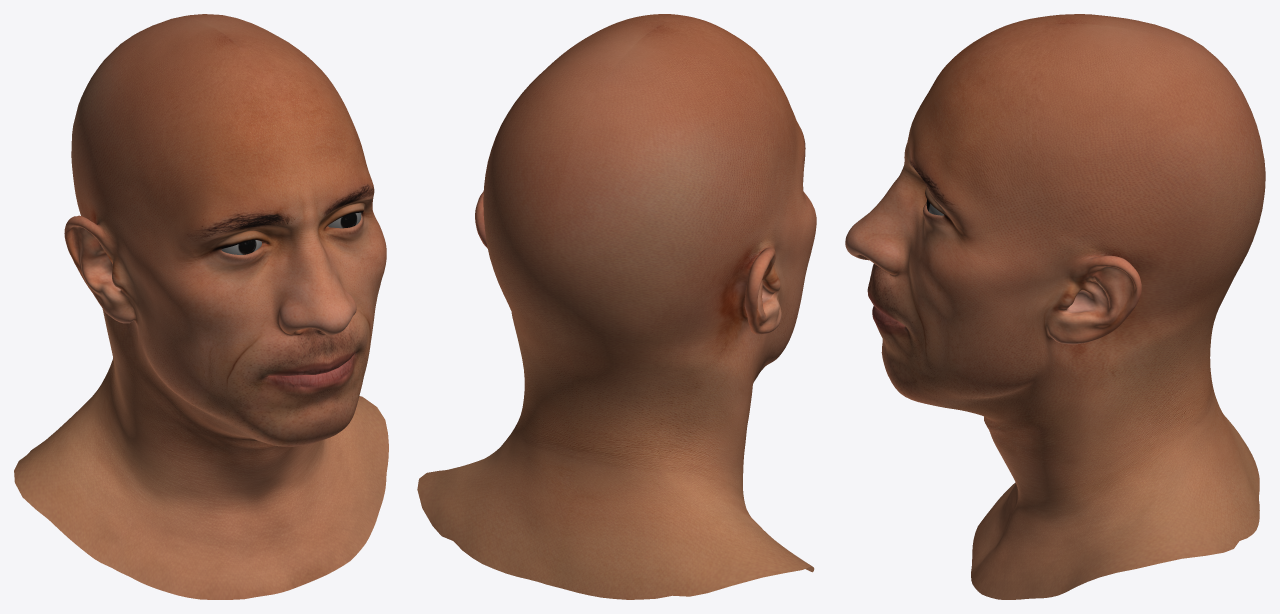
3 renders of one model, left to right at view 1: azimuth 30°, elevation 25°; view 2: azimuth 150°, elevation 25°; view 3: azimuth 270°, elevation 25°, orthographic. The views are drawn at different scales.
Visible parts, largest first — view 1: Registered head; view 2: Registered head; view 3: Registered head.
Part boxes in pixels (x1,y1,x2,y2): Registered head: [14, 14, 388, 599]; Registered head: [417, 14, 816, 599]; Registered head: [845, 14, 1265, 599].
Bounding box in the file's own units: 1.33 × 1.88 × 1.32.
3 materials, 3 textured.
